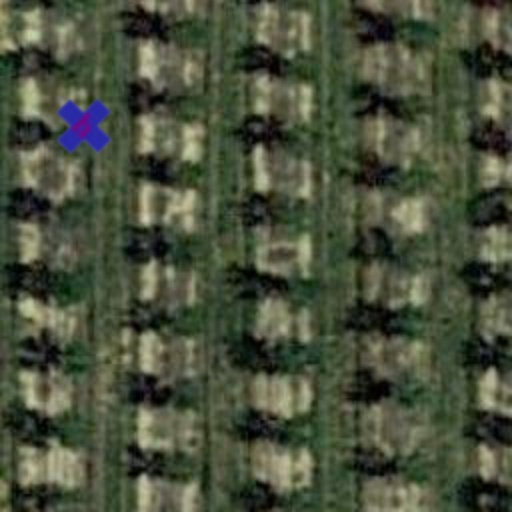cross: (42, 84, 126, 168)
